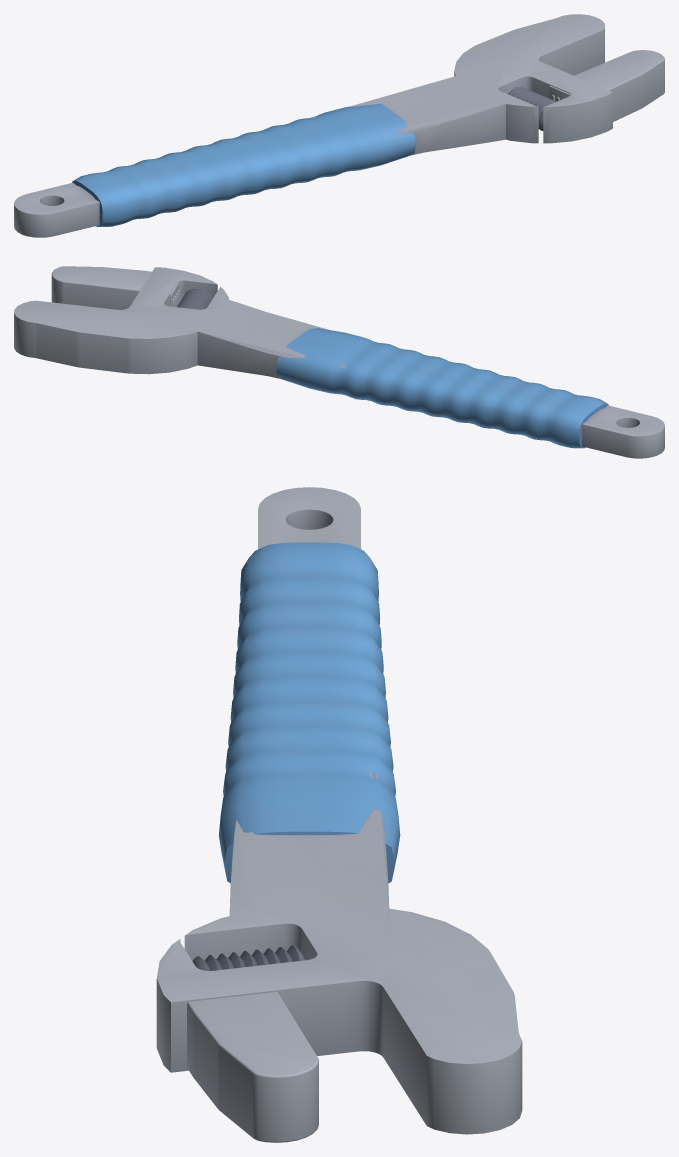
File: wrench.glb
3 views of the same model, one above another, from view 1: azimuth 30°, elevation 25°; view 2: azimuth 150°, elevation 25°; view 3: azimuth 270°, elevation 25° (orthographic). The views are drawn at different scales.
Parts seen in each view (by area): view 1: wrench_body, wrench_jaw, wrench_worm; view 2: wrench_body, wrench_jaw, wrench_worm; view 3: wrench_body, wrench_jaw, wrench_worm.
Boxes of the visible parts, x1,y1,x2,y2 form: wrench_body: (14, 14, 612, 237); wrench_jaw: (549, 50, 664, 121); wrench_worm: (508, 86, 556, 130); wrench_body: (14, 267, 664, 458); wrench_jaw: (51, 266, 180, 309); wrench_worm: (177, 288, 212, 309); wrench_body: (156, 487, 522, 1134); wrench_jaw: (187, 992, 318, 1142); wrench_worm: (192, 945, 305, 970).
Bounding box in the file's own units: 0.2487 × 0.0138 × 0.0639.
3 materials, 3 textured.
